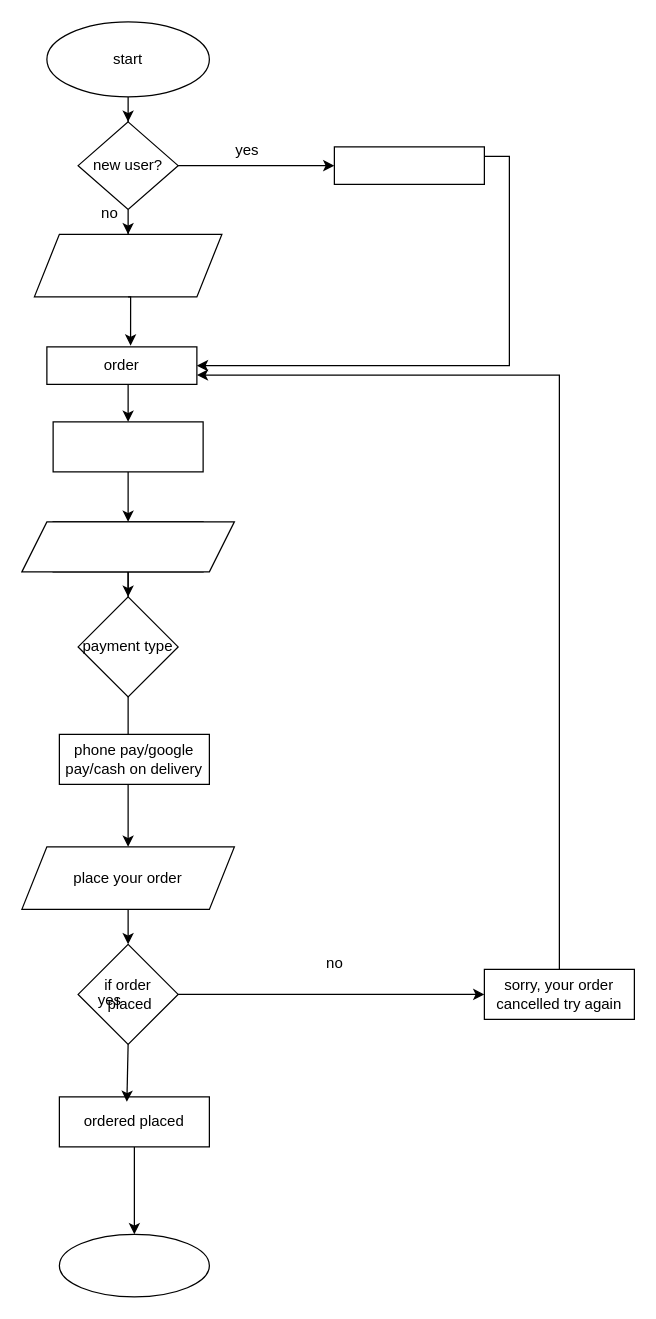
The diagram is 656 pixels wide and 1319 high, and some of its shapes have lost their labels. Here are the shapes that lost their labels. From the top down, the centre of each, then its label:
(x=408, y=165): create an acoount
(x=127, y=265): user credentials
(x=127, y=446): select the food
(x=127, y=546): enter delivery address
(x=133, y=1265): end
